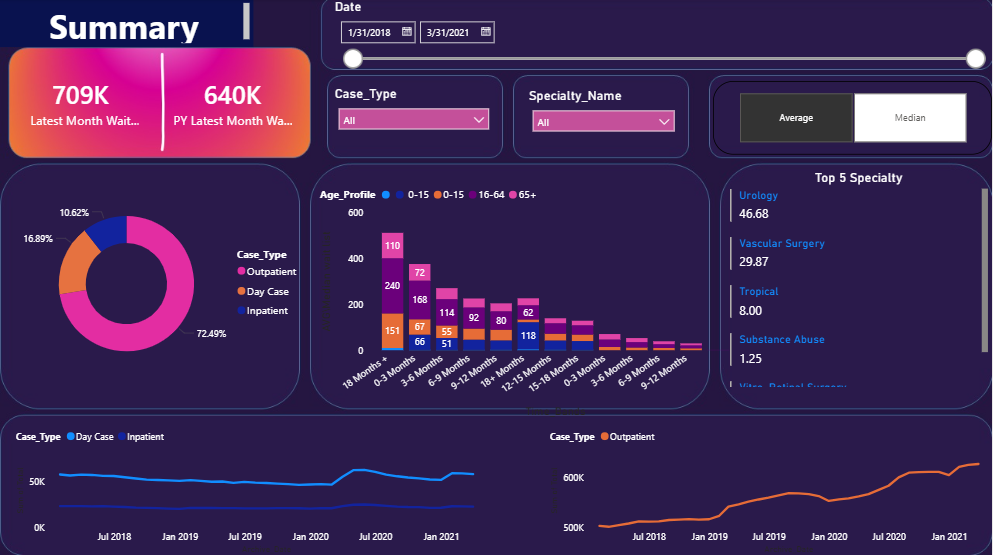

The dashboard page shown, as its layout file describes it:
{"tool":"powerbi","page":{"name":"Summery","canvas":[1280,720],"ordinal":0},"visuals":[{"type":"cardVisual","fields":{"Data":["Data.Latest Month Wait lists"]},"box":[0,62.4,208.3,144.6],"z":0},{"type":"cardVisual","fields":{"Data":["Data.PY Latest Month Wait lists"]},"box":[192.8,62.4,215.4,144.6],"z":1000},{"type":"slicer","fields":{"Values":["Calculation Method.Calc Method"]},"box":[919.8,106.3,360,95],"z":2000},{"type":"donutChart","fields":{"Category":["Data.Case_Type"],"Y":["Data.AVG\\Median wait list"]},"box":[15.6,206.9,381.3,321.7],"z":3000},{"type":"slicer","title":"Date","fields":{"Values":["Data.Archive_Date"]},"box":[426.6,0,853.2,92.1],"z":4000},{"type":"slicer","title":"Case_Type","fields":{"Values":["Data.Case_Type"]},"box":[426.6,112,214,83.6],"z":5000},{"type":"slicer","title":"Specialty_Name","fields":{"Values":["Data.Speciality _Name"]},"box":[677.5,114.8,202.7,78],"z":6000},{"type":"textbox","box":[0,0,327.4,62.4],"z":7000},{"type":"multiRowCard","title":"Top 5 Specialty","fields":{"Values":["Data.AVG\\Median wait list","Data.Speciality _Name"]},"box":[936.9,221.1,343,284.9],"z":8000},{"type":"lineChart","fields":{"Category":["Data.Archive_Date"],"Y":["Sum(Data.Total)"],"Series":["Data.Case_Type"]},"box":[16,544,624,176],"z":9000},{"type":"lineChart","fields":{"Category":["Data.Archive_Date"],"Y":["Sum(Data.Total)"],"Series":["Data.Case_Type"]},"box":[704,544,576,176],"z":10000},{"type":"columnChart","fields":{"Category":["Data.Time_Bands"],"Series":["Data.Age_Profile"],"Y":["Data.AVG\\Median wait list"]},"box":[408.2,232.4,528.7,301.9],"z":11000}]}

Visuals, with their boxes in screenshot pixels (x1, y1, x2, y2), scaled from the page's 1280x720 canvas onto the 993x555 screenshot:
cardVisual - Data.Latest Month Wait lists: [0, 48, 162, 160]
cardVisual - Data.PY Latest Month Wait lists: [150, 48, 317, 160]
slicer - Calculation Method.Calc Method: [714, 82, 992, 155]
donutChart - Data.Case_Type x Data.AVG\Median wait list: [12, 159, 308, 407]
"Date" slicer: [331, 0, 992, 71]
"Case_Type" slicer: [331, 86, 497, 151]
"Specialty_Name" slicer: [526, 88, 683, 149]
textbox: [0, 0, 254, 48]
"Top 5 Specialty" multiRowCard: [727, 170, 992, 390]
lineChart - Data.Archive_Date x Sum(Data.Total): [12, 419, 496, 554]
lineChart - Data.Archive_Date x Sum(Data.Total): [546, 419, 992, 554]
columnChart - Data.Time_Bands x Data.Age_Profile: [317, 179, 727, 412]
